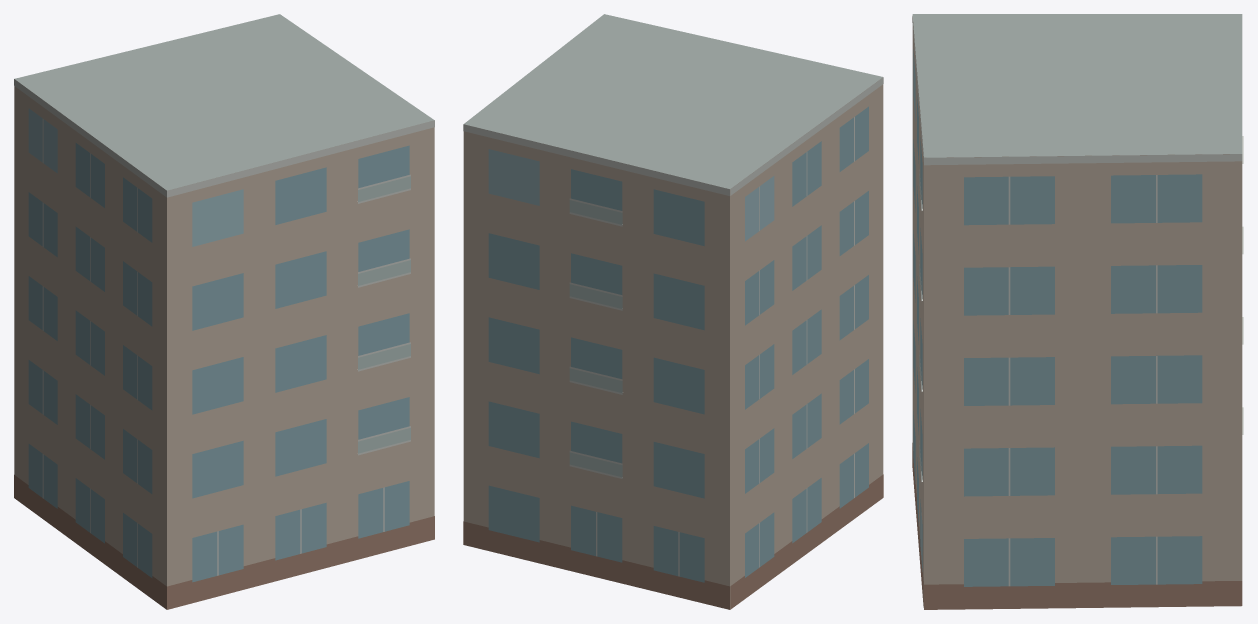
Rendered from survey-upis-32606561.glb.
3 renders of one model, left to right at view 1: azimuth 30°, elevation 25°; view 2: azimuth 150°, elevation 25°; view 3: azimuth 270°, elevation 25°, orthographic. The views are drawn at different scales.
Visible parts, largest first — view 1: survey-upis-32606561.tmp; view 2: survey-upis-32606561.tmp; view 3: survey-upis-32606561.tmp.
Part boxes in pixels (left/top/right/bottom): survey-upis-32606561.tmp: left=14, top=14, right=434, bottom=609; survey-upis-32606561.tmp: left=463, top=14, right=883, bottom=609; survey-upis-32606561.tmp: left=912, top=14, right=1243, bottom=609.
Size of the model in its own units: 10.03 by 14.69 by 9.75.
